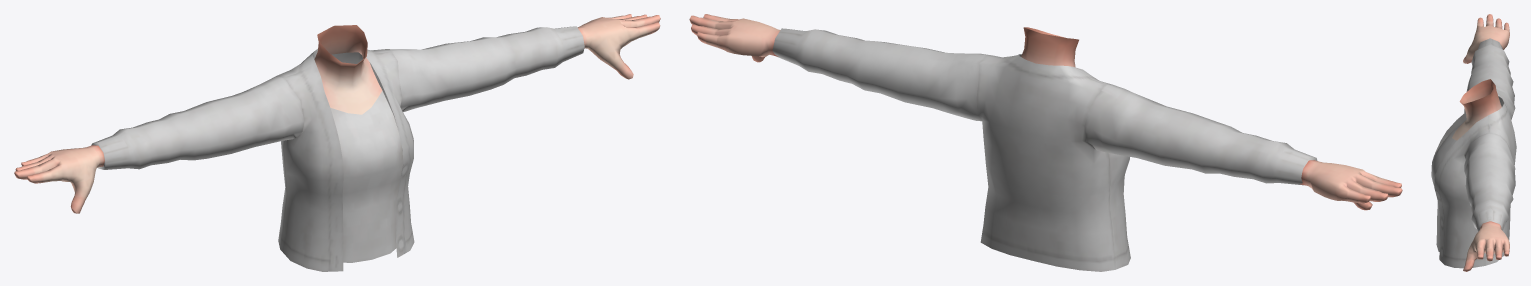
File: tr0850_00_upb02.gltf
3 views of the same model, side by side, from view 1: azimuth 30°, elevation 25°; view 2: azimuth 150°, elevation 25°; view 3: azimuth 270°, elevation 25° (orthographic). The views are drawn at different scales.
Visible parts, largest first — view 1: upb02_upperbody_mesh_shape:upperbody02, upb02_upperskin_mesh_shape:upperbody02_skin; view 2: upb02_upperbody_mesh_shape:upperbody02, upb02_upperskin_mesh_shape:upperbody02_skin; view 3: upb02_upperbody_mesh_shape:upperbody02, upb02_upperskin_mesh_shape:upperbody02_skin.
Part boxes in pixels (<box>): upb02_upperbody_mesh_shape:upperbody02: <box>91,26,584,271</box>; upb02_upperskin_mesh_shape:upperbody02_skin: <box>14,14,660,213</box>; upb02_upperbody_mesh_shape:upperbody02: <box>772,28,1317,271</box>; upb02_upperskin_mesh_shape:upperbody02_skin: <box>689,14,1402,210</box>; upb02_upperbody_mesh_shape:upperbody02: <box>1431,38,1516,268</box>; upb02_upperskin_mesh_shape:upperbody02_skin: <box>1452,14,1509,271</box>.
Size of what is drawn, in the model's own units: 1.63 by 0.513 by 0.242.
Materials: 2 (2 with a texture image).
